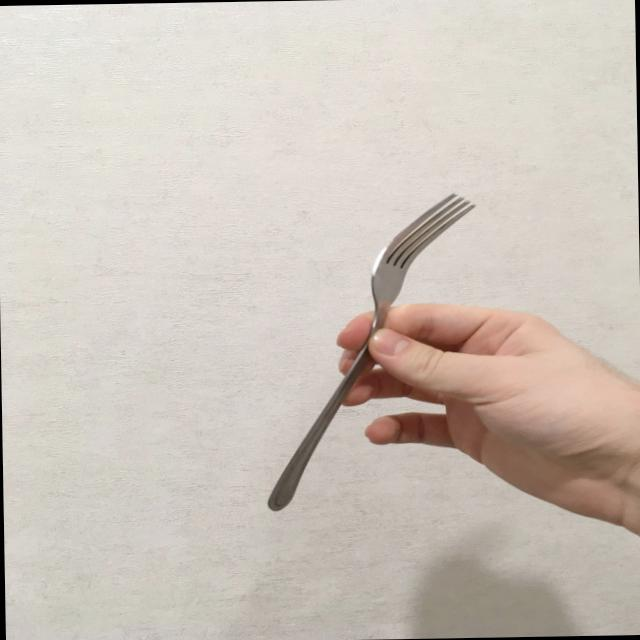fork: (259, 188, 483, 511)
